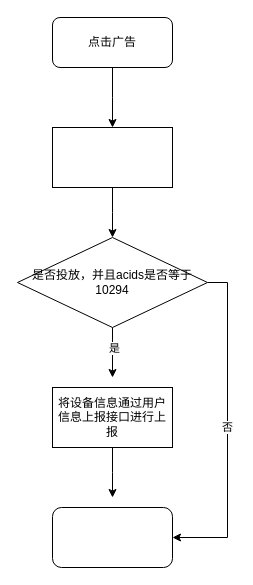
This 253x585 diagram has some shape labels left out. The centre of each missing label's shape, as x and y in pixels:
结束: [112,537]
通过rta接口，将设备信息发送给UC: [112,157]
